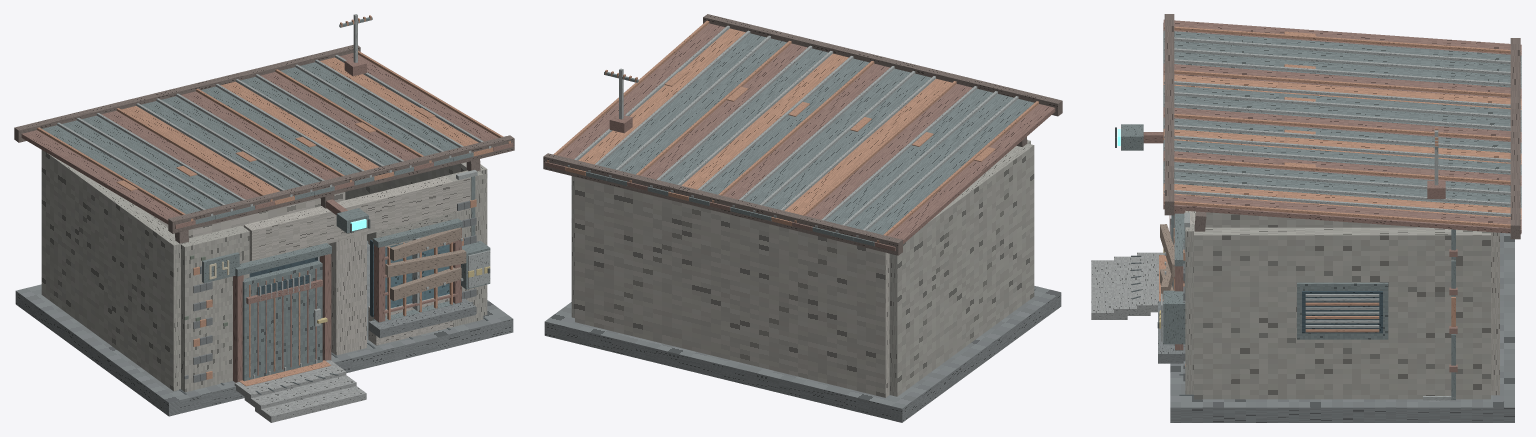
The model's file is guardhouse04.gltf.
The picture shows the model from 3 angles, left to right: view 1: azimuth 30°, elevation 25°; view 2: azimuth 150°, elevation 25°; view 3: azimuth 270°, elevation 25°; orthographic projection. The views are drawn at different scales.
Visible parts, largest first — view 1: Guardhouse|plasterAlt, Guardhouse|metal, Guardhouse|plaster, Guardhouse|rustDark, Guardhouse|rust, Guardhouse|concreteDark, Guardhouse|metalHi, Guardhouse|woodDark, DoorLeaf|metal, Guardhouse|concrete, DoorLeaf|rustDark, Window|wood (+9 smaller); view 2: Guardhouse|plaster, Guardhouse|metal, Guardhouse|plasterAlt, Guardhouse|rustDark, Guardhouse|rust, Guardhouse|concreteDark, Guardhouse|metalHi, Guardhouse|woodDark; view 3: Guardhouse|plasterAlt, Guardhouse|metal, Guardhouse|metalHi, Guardhouse|rust, Guardhouse|rustDark, Guardhouse|concreteDark, Guardhouse|woodDark, Guardhouse|concrete, Guardhouse|void, Guardhouse|plaster, Window|wood, Window|concreteDark (+1 smaller).
Part boxes in pixels (x1=…): Guardhouse|plasterAlt: x1=41, y1=150, x2=487, y2=392; Guardhouse|metal: x1=42, y1=17, x2=490, y2=289; Guardhouse|plaster: x1=147, y1=176, x2=470, y2=355; Guardhouse|rustDark: x1=21, y1=53, x2=513, y2=228; Guardhouse|rust: x1=37, y1=15, x2=510, y2=379; Guardhouse|concreteDark: x1=15, y1=240, x2=513, y2=416; Guardhouse|metalHi: x1=57, y1=14, x2=491, y2=287; Guardhouse|woodDark: x1=14, y1=45, x2=514, y2=243; DoorLeaf|metal: x1=235, y1=243, x2=331, y2=381; Guardhouse|concrete: x1=234, y1=360, x2=366, y2=422; DoorLeaf|rustDark: x1=233, y1=254, x2=331, y2=382; Window|wood: x1=385, y1=227, x2=466, y2=300; Guardhouse|plaster: x1=575, y1=177, x2=889, y2=397; Guardhouse|metal: x1=585, y1=33, x2=1034, y2=246; Guardhouse|plasterAlt: x1=571, y1=140, x2=1034, y2=396; Guardhouse|rustDark: x1=544, y1=23, x2=1055, y2=251; Guardhouse|rust: x1=547, y1=20, x2=1038, y2=242; Guardhouse|concreteDark: x1=544, y1=286, x2=1061, y2=422; Guardhouse|metalHi: x1=567, y1=25, x2=1018, y2=237; Guardhouse|woodDark: x1=543, y1=14, x2=1062, y2=255; Guardhouse|plasterAlt: x1=1185, y1=212, x2=1490, y2=399; Guardhouse|metal: x1=1121, y1=30, x2=1521, y2=400; Guardhouse|metalHi: x1=1161, y1=37, x2=1520, y2=400; Guardhouse|rust: x1=1163, y1=26, x2=1521, y2=366; Guardhouse|rustDark: x1=1143, y1=19, x2=1521, y2=372; Guardhouse|concreteDark: x1=1170, y1=218, x2=1514, y2=422; Guardhouse|woodDark: x1=1164, y1=14, x2=1520, y2=239; Guardhouse|concrete: x1=1091, y1=252, x2=1164, y2=319; Guardhouse|void: x1=1302, y1=291, x2=1382, y2=333; Guardhouse|plaster: x1=1185, y1=210, x2=1499, y2=395; Window|wood: x1=1160, y1=224, x2=1174, y2=298; Window|concreteDark: x1=1158, y1=301, x2=1183, y2=363.
Bounding box in the file's own units: 6.85 × 4.57 × 6.59.
18 materials, 18 textured.
